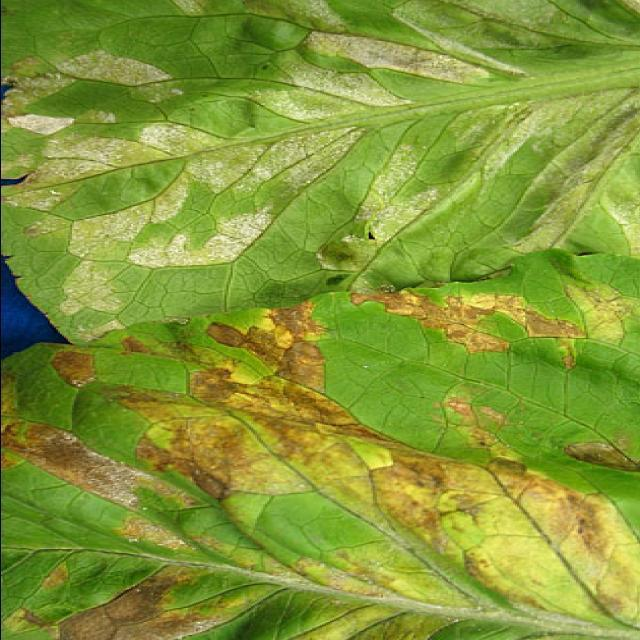Downy_mildew_on_lettuce: (50, 348, 622, 625)
Powdery_mildew_on_lettuce: (16, 17, 534, 276)
